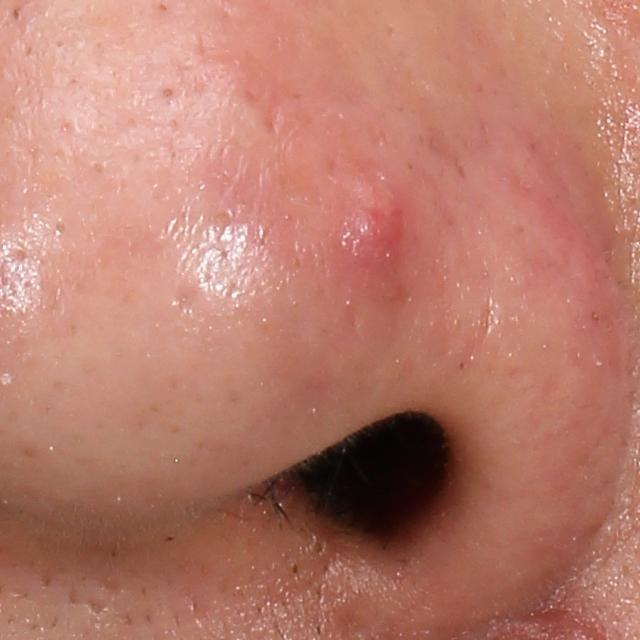comedo: (12, 7, 25, 21)
papule: (333, 174, 405, 307)
